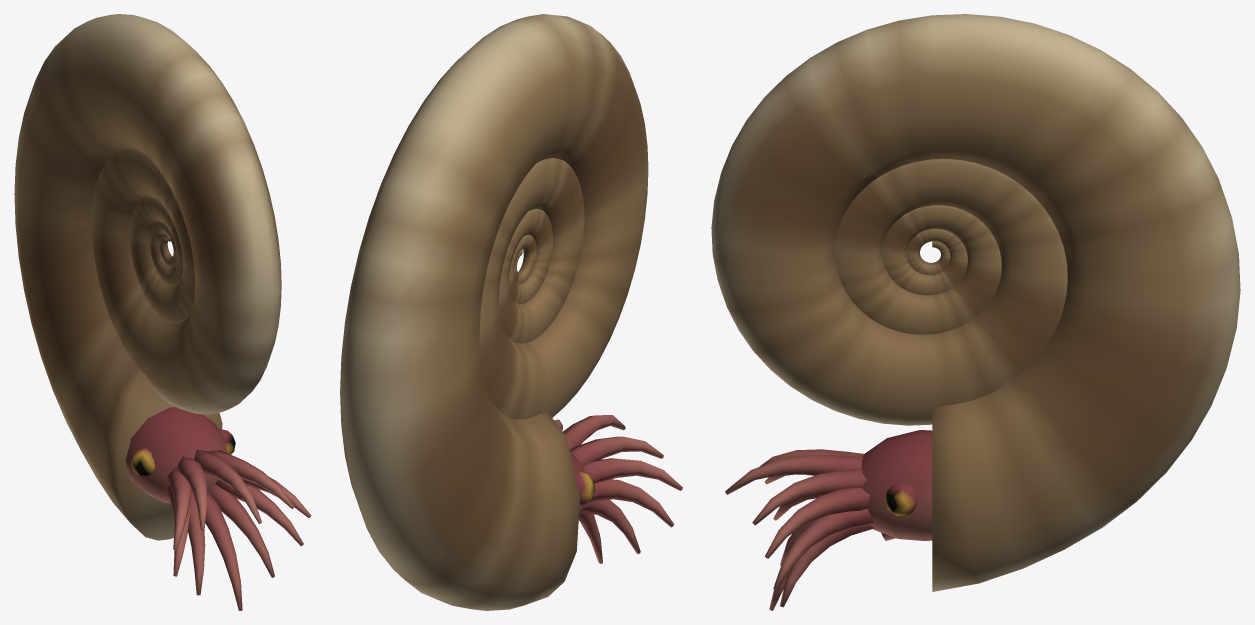
Rendered from Agoniatites.fbx.
3 views of the same model, side by side, from view 1: azimuth 30°, elevation 25°; view 2: azimuth 150°, elevation 25°; view 3: azimuth 270°, elevation 25° (orthographic). The views are drawn at different scales.
Visible parts, largest first — view 1: Agoniatites; view 2: Agoniatites; view 3: Agoniatites.
Part boxes in pixels (left/top/right/bottom): Agoniatites: left=14, top=14, right=311, bottom=610; Agoniatites: left=340, top=14, right=682, bottom=610; Agoniatites: left=711, top=14, right=1240, bottom=610.
Bounding box in the file's own units: 0.5016 × 1.81 × 1.46.
